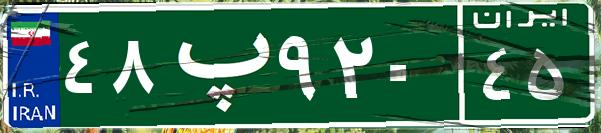0: (385, 28, 445, 110)
2: (330, 28, 385, 110)
4: (57, 26, 110, 107), (475, 38, 525, 113)
5: (525, 38, 570, 115)
8: (110, 28, 158, 105)
9: (273, 28, 330, 110)
پ: (158, 15, 273, 115)
